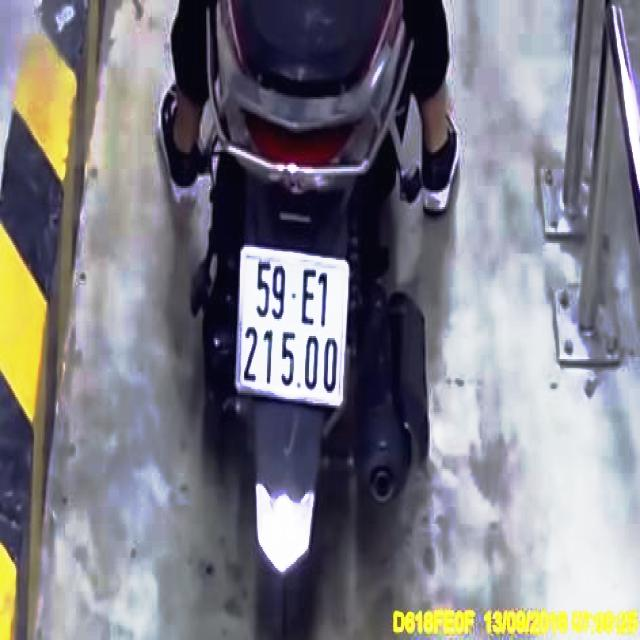license_plate: (241, 252, 348, 405)
